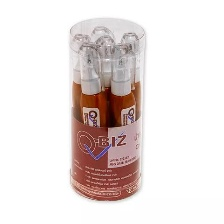correction_fluid: (87, 22, 120, 167), (77, 40, 107, 192), (91, 34, 120, 184), (68, 31, 94, 185), (108, 43, 135, 191), (118, 28, 143, 182)
plastic_box: (62, 15, 148, 204)
